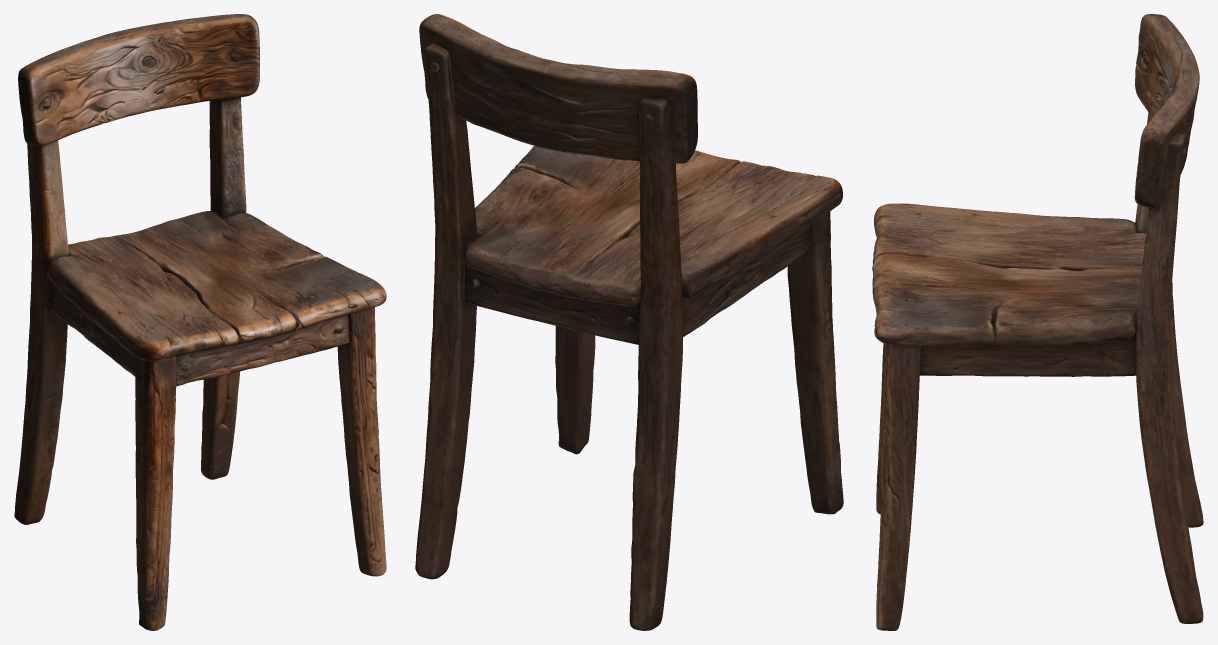
File: antique+wooden+chair+3d+model.glb
The picture shows the model from 3 angles, left to right: view 1: azimuth 30°, elevation 25°; view 2: azimuth 150°, elevation 25°; view 3: azimuth 270°, elevation 25°; orthographic projection. The views are drawn at different scales.
Visible parts, largest first — view 1: tripo_node_6fb12351-604b-483d-9ca6-a35e99facb60; view 2: tripo_node_6fb12351-604b-483d-9ca6-a35e99facb60; view 3: tripo_node_6fb12351-604b-483d-9ca6-a35e99facb60.
Part boxes in pixels (x1,y1,x2,y2): tripo_node_6fb12351-604b-483d-9ca6-a35e99facb60: (14,14,386,630); tripo_node_6fb12351-604b-483d-9ca6-a35e99facb60: (415,14,843,630); tripo_node_6fb12351-604b-483d-9ca6-a35e99facb60: (872,14,1203,630).
Bounding box in the file's own units: 0.5527 × 1 × 0.5975.
Materials: 1 (1 with a texture image).
